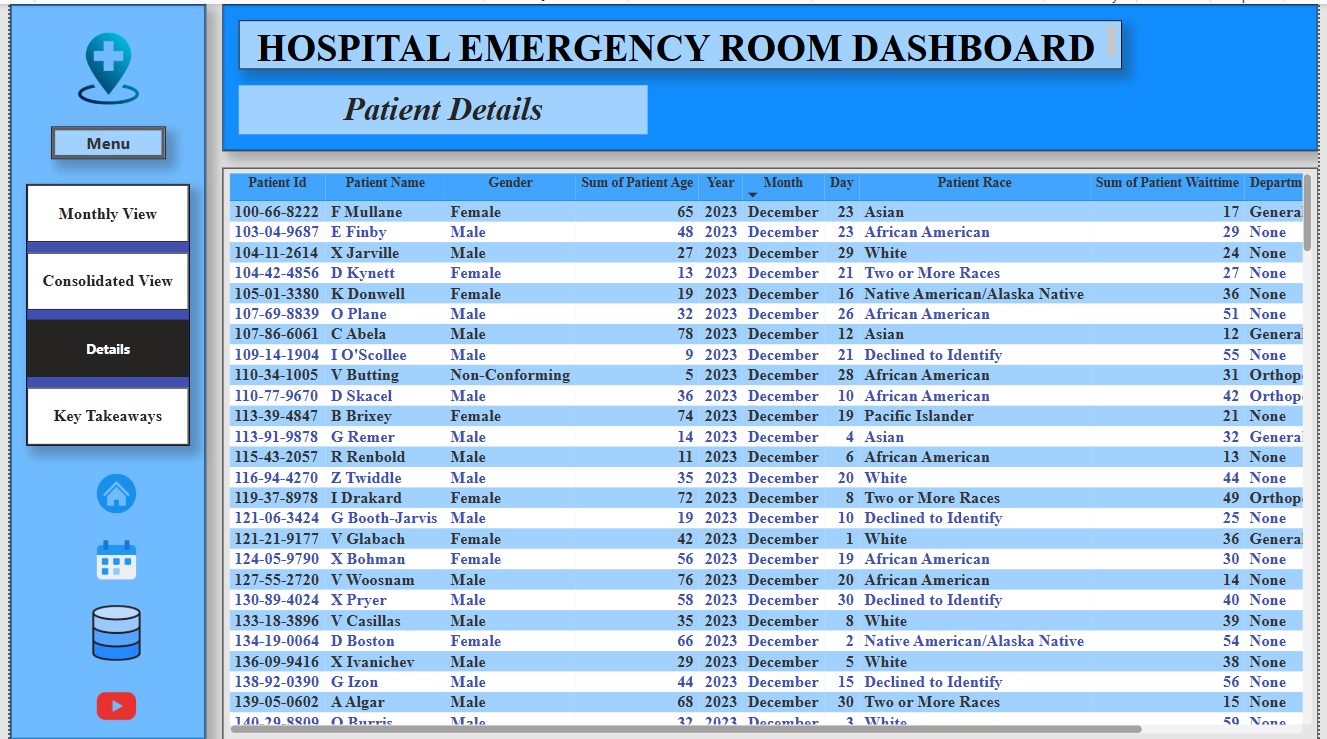

The page's visual inventory and layout, read from the dashboard file:
{"tool":"powerbi","page":{"name":"Details","canvas":[1280,720],"ordinal":2},"visuals":[{"type":"shape","box":[208,0,1072,144],"z":0},{"type":"tableEx","fields":{"Values":["Hospital ER_Hospital ER.Patient Id","Hospital ER_Hospital ER.Patient Name","Hospital ER_Hospital ER.Full Gender","Sum(Hospital ER_Hospital ER.Patient Age)","Hospital ER_Hospital ER.Patient Date.Variation.Date Hierarchy.Year","Hospital ER_Hospital ER.Patient Date.Variation.Date Hierarchy.Month","Hospital ER_Hospital ER.Patient Date.Variation.Date Hierarchy.Day","Hospital ER_Hospital ER.Patient Race","Sum(Hospital ER_Hospital ER.Patient Waittime)","Hospital ER_Hospital ER.Department Referral","Hospital ER_Hospital ER.Admission Status"]},"box":[208,160,1072,560],"z":1000},{"type":"shape","box":[0,0,192,720],"z":2000},{"type":"image","box":[24.6,23.3,144,80],"z":3000},{"type":"actionButton","box":[40.6,119.3,112,32],"z":4000},{"type":"image","box":[72.6,455.3,64,48],"z":5000},{"type":"image","box":[72.6,519.3,64,48],"z":6000},{"type":"image","box":[72.6,583.3,64,64],"z":7000},{"type":"image","box":[72.6,663.3,64,48],"z":8000},{"type":"pageNavigator","box":[16,176,160,256],"z":9000},{"type":"textbox","box":[224,16,864,48],"z":10000},{"type":"textbox","box":[224,80,400,48],"z":11000}]}

Visuals, with their boxes on the page's 1280x720 design canvas (x1, y1, x2, y2). These are canvas units, not pixel positions in the 1327x739 screenshot, which may show the page scaled, cropped or inside an application window:
shape: l=208, t=0, r=1280, b=144
tableEx - Hospital ER_Hospital ER.Patient Id x Hospital ER_Hospital ER.Patient Name: l=208, t=160, r=1280, b=720
shape: l=0, t=0, r=192, b=720
image: l=25, t=23, r=169, b=103
actionButton: l=41, t=119, r=153, b=151
image: l=73, t=455, r=137, b=503
image: l=73, t=519, r=137, b=567
image: l=73, t=583, r=137, b=647
image: l=73, t=663, r=137, b=711
pageNavigator: l=16, t=176, r=176, b=432
textbox: l=224, t=16, r=1088, b=64
textbox: l=224, t=80, r=624, b=128
